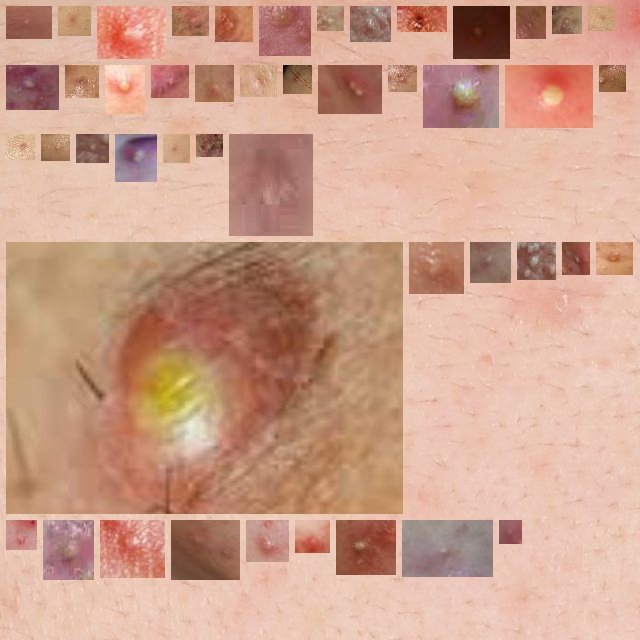pustule: (14, 250, 395, 506), (237, 142, 305, 228), (513, 73, 585, 120), (410, 528, 485, 569), (431, 73, 491, 120), (179, 528, 232, 572), (108, 528, 157, 570), (105, 14, 158, 51), (344, 528, 388, 567), (326, 73, 374, 106), (51, 528, 86, 572), (461, 14, 502, 51), (417, 250, 456, 286), (267, 14, 303, 48), (14, 73, 51, 102), (123, 142, 149, 174), (113, 73, 137, 106), (254, 528, 281, 554), (478, 250, 503, 275), (405, 14, 439, 31), (14, 14, 44, 31), (525, 250, 548, 272), (358, 14, 383, 34), (203, 73, 226, 94), (223, 14, 245, 34), (159, 73, 181, 90), (604, 250, 625, 267), (248, 73, 269, 89), (303, 528, 322, 545), (73, 73, 91, 90), (180, 14, 201, 28), (66, 14, 83, 28), (524, 14, 538, 31), (84, 142, 101, 155), (14, 528, 29, 542), (570, 250, 582, 267), (291, 73, 304, 86), (560, 14, 574, 26), (396, 73, 409, 84), (49, 142, 62, 153), (171, 142, 182, 155), (14, 142, 27, 152), (607, 73, 618, 84), (325, 14, 336, 23), (596, 14, 607, 23), (204, 142, 215, 149), (507, 528, 514, 536)
